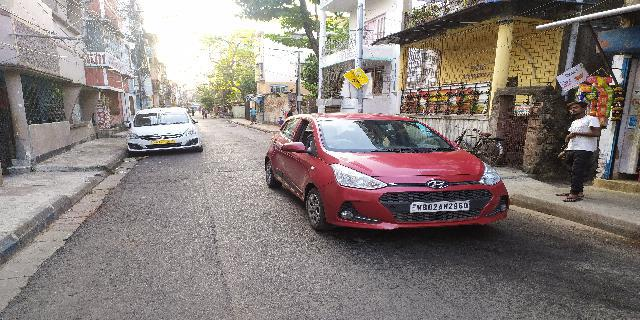Car: (260, 106, 513, 245), (122, 103, 207, 157)
